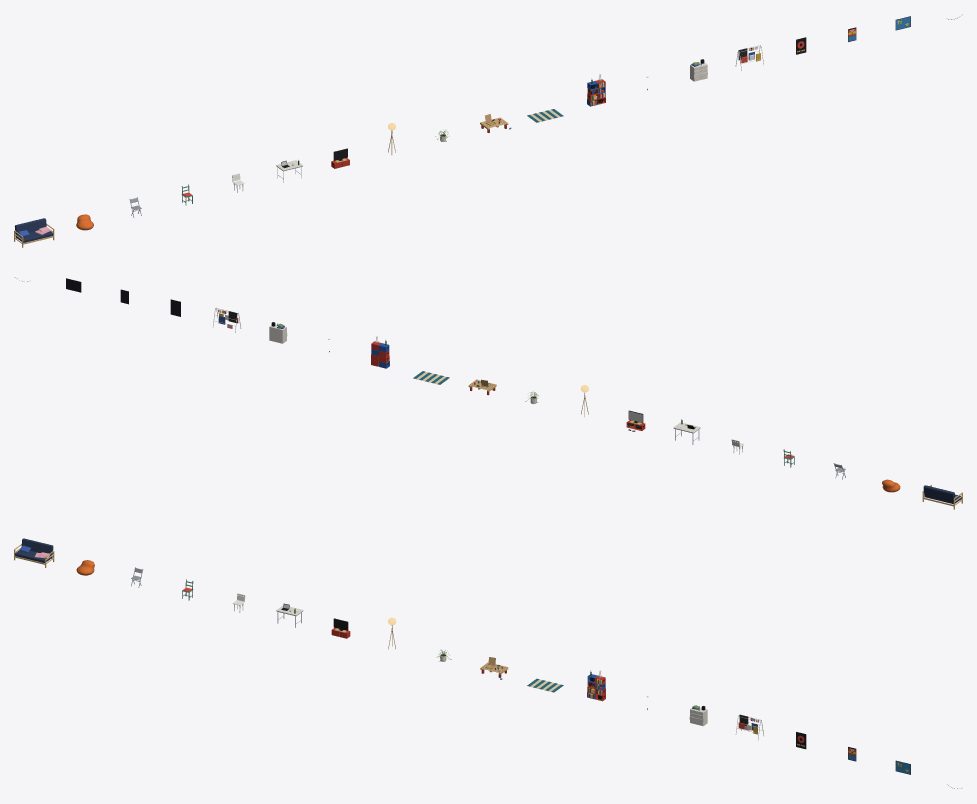
Rendered from Student.glb.
3 views of the same model, one above another, from view 1: azimuth 30°, elevation 25°; view 2: azimuth 150°, elevation 25°; view 3: azimuth 330°, elevation 25° (orthographic).
Parts seen in each view (by area): view 1: Sofa; view 2: Sofa; view 3: Sofa.
Boxes of the visible parts, bbox=[...] form: Sofa: bbox=[14, 218, 54, 247]; Sofa: bbox=[922, 485, 962, 509]; Sofa: bbox=[14, 538, 54, 567].
Size of the model in its own units: 277 by 9.5 by 5.14.
